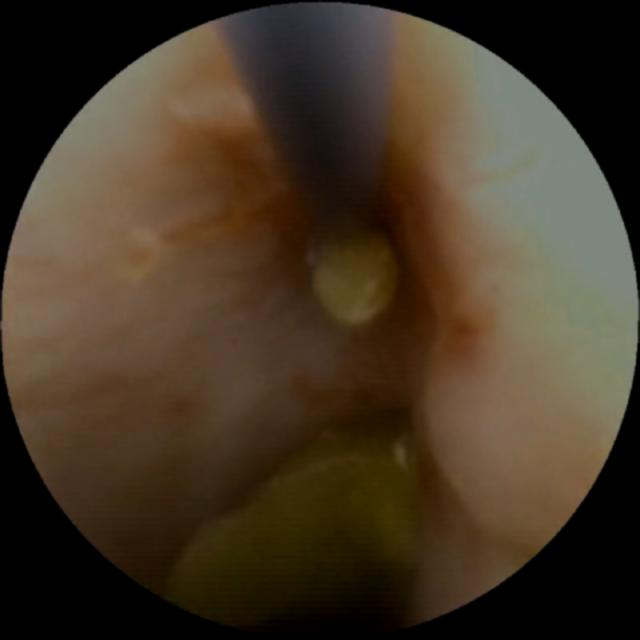stone: (176, 418, 423, 629), (317, 230, 394, 315)
tissue: (13, 41, 622, 598)
